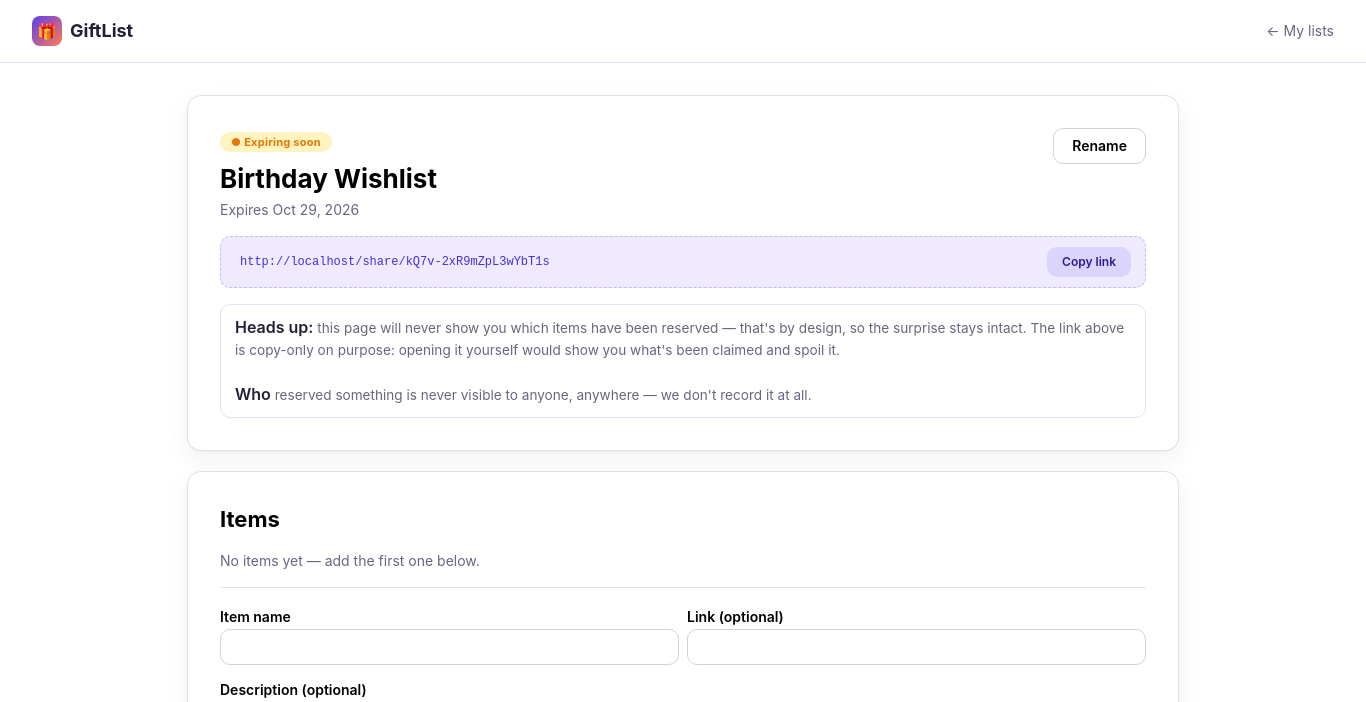
ListDetailOwnerPage › ListDetailOwnerPage_ShouldShowAWarning_WhenTheRenameCannotBeConfirmed
Click the button "Rename". click: (1100, 146)
box: [1053, 128, 1146, 164]
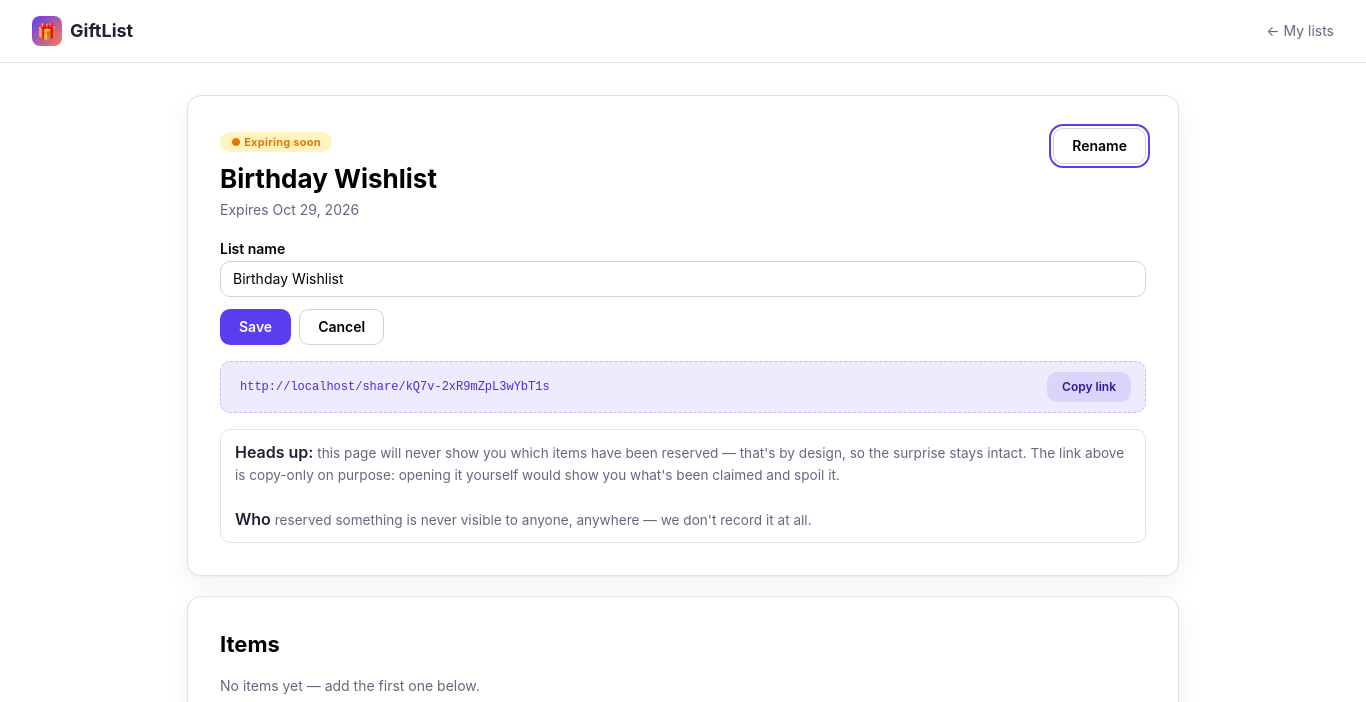
Replace the text in the field labelled "List name" with "New Name". click: (683, 279)
box: [220, 261, 1146, 297]
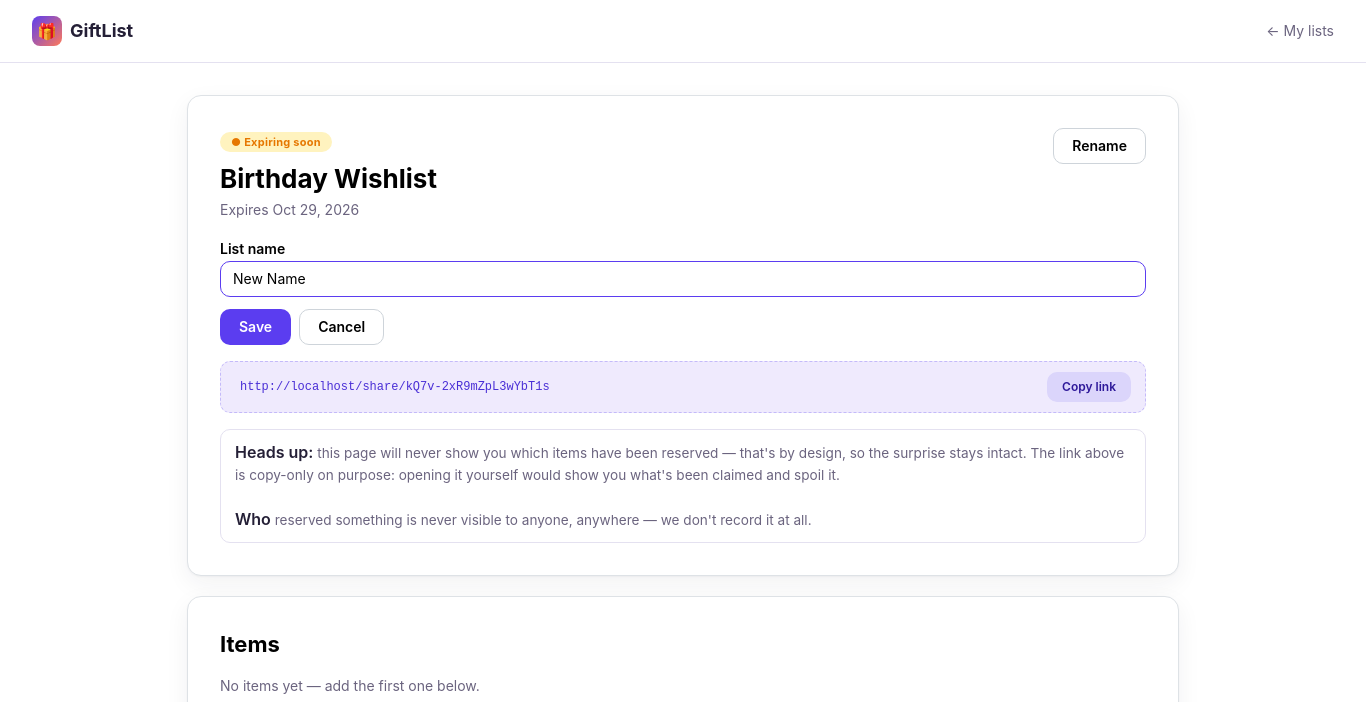
Click the button "Save". click: (256, 327)
box: [220, 309, 291, 345]
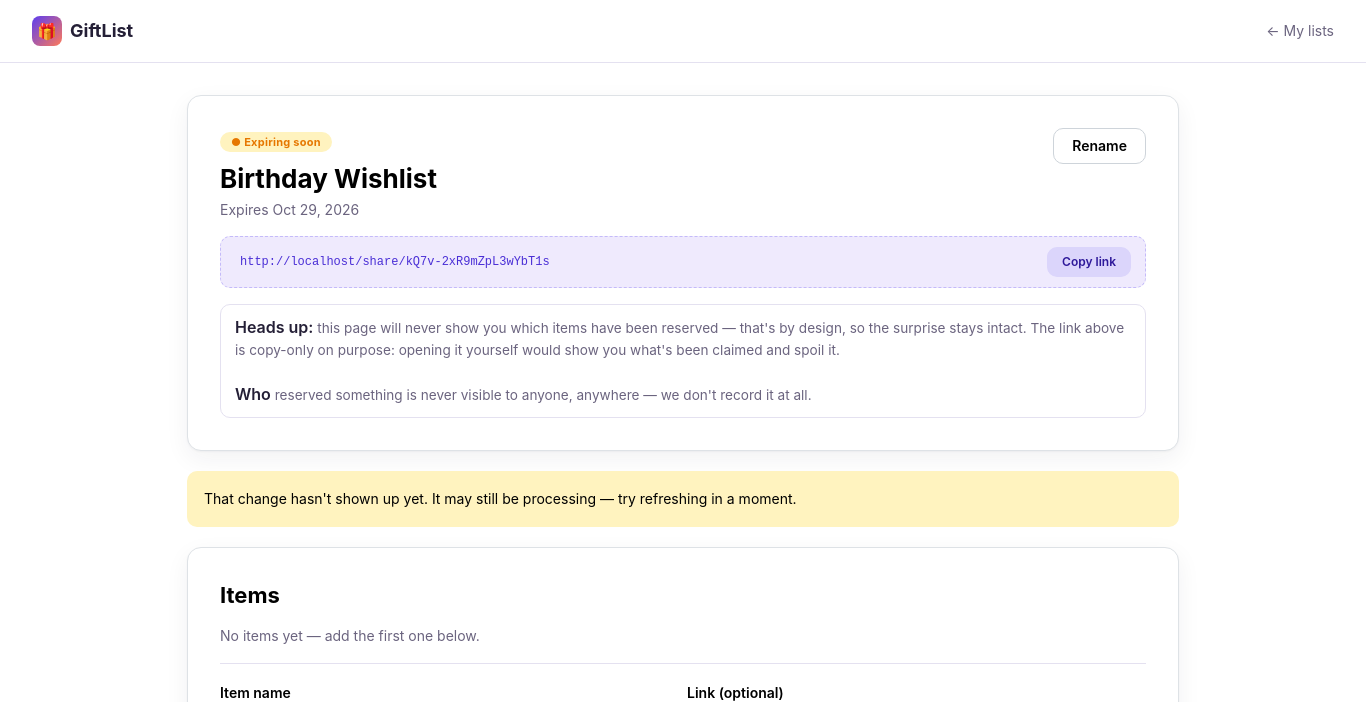
Expected: the message shows "hasn't shown up yet", [204, 490, 797, 507]
